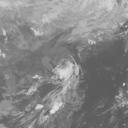cyclone: (41, 57, 87, 118)
